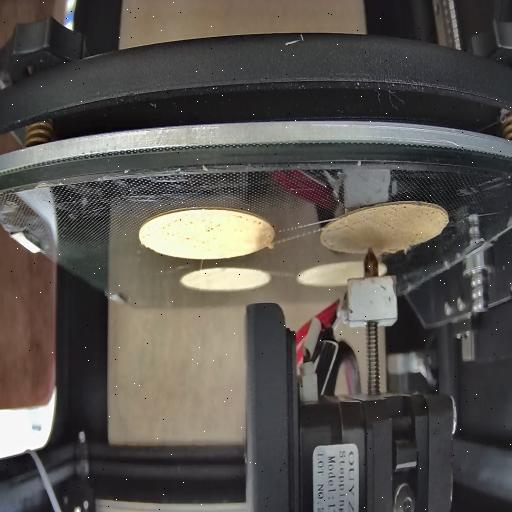under_extrusion: (142, 213, 263, 242), (400, 203, 442, 237), (326, 216, 364, 234)
